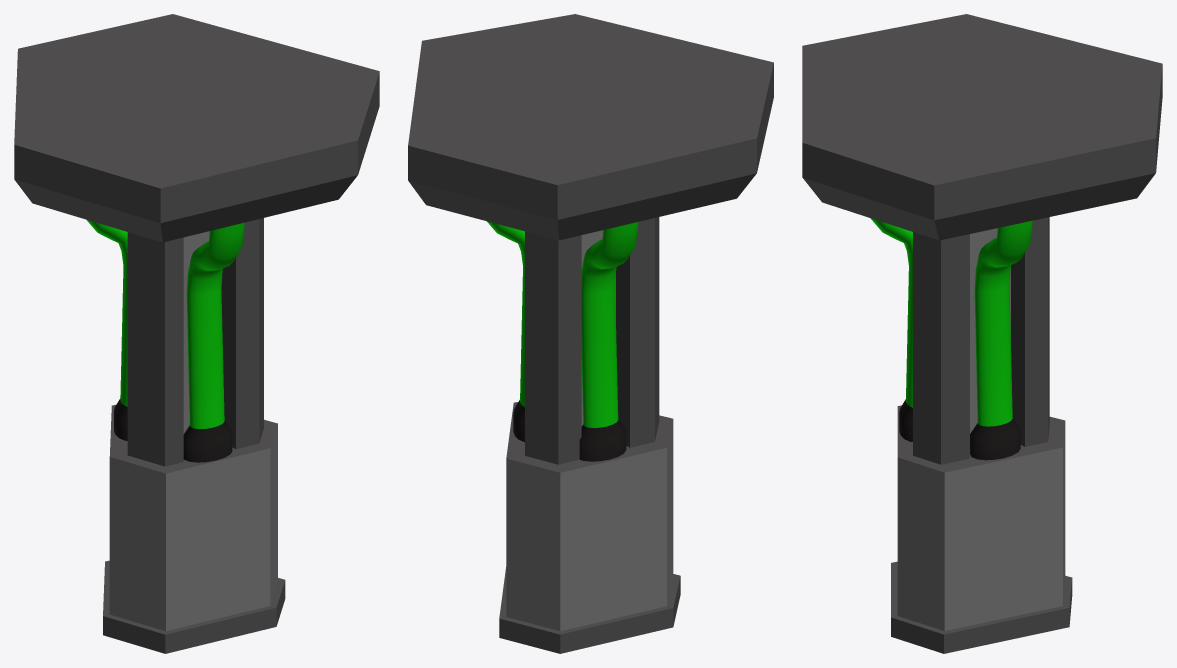
Rendered from Robot_Pillar_Top.fbx.
3 renders of one model, left to right at view 1: azimuth 30°, elevation 25°; view 2: azimuth 150°, elevation 25°; view 3: azimuth 270°, elevation 25°, orthographic.
Visible parts, largest first — view 1: polySurface87, pCylinder64, pCylinder65; view 2: polySurface87, pCylinder65, pCylinder66; view 3: polySurface87, pCylinder66, pCylinder64.
Boxes of the visible parts, x1,y1,x2,y2 form: polySurface87: [14, 14, 379, 653]; pCylinder64: [183, 222, 244, 462]; pCylinder65: [86, 219, 127, 440]; polySurface87: [408, 14, 773, 653]; pCylinder65: [579, 222, 638, 461]; pCylinder66: [487, 221, 524, 442]; polySurface87: [802, 14, 1162, 653]; pCylinder66: [970, 220, 1032, 460]; pCylinder64: [871, 218, 912, 441].
Bounding box in the file's own units: 1.72 × 1.53 × 2.4.
